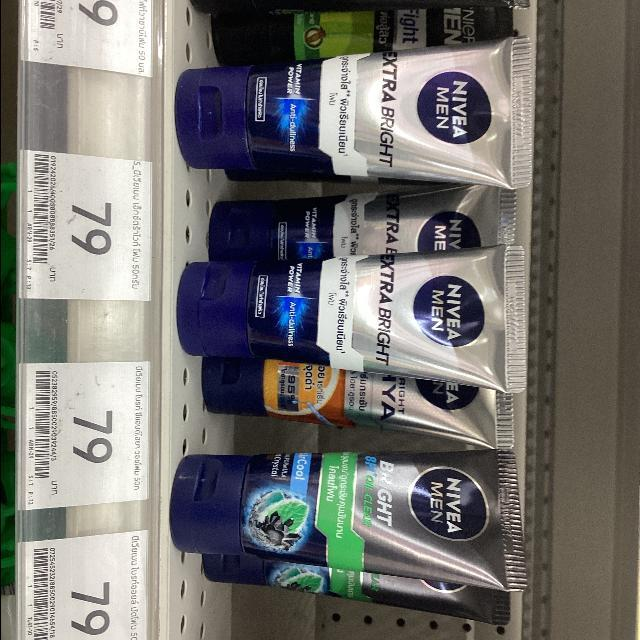Squeeze Tube: (156, 19, 572, 640)
